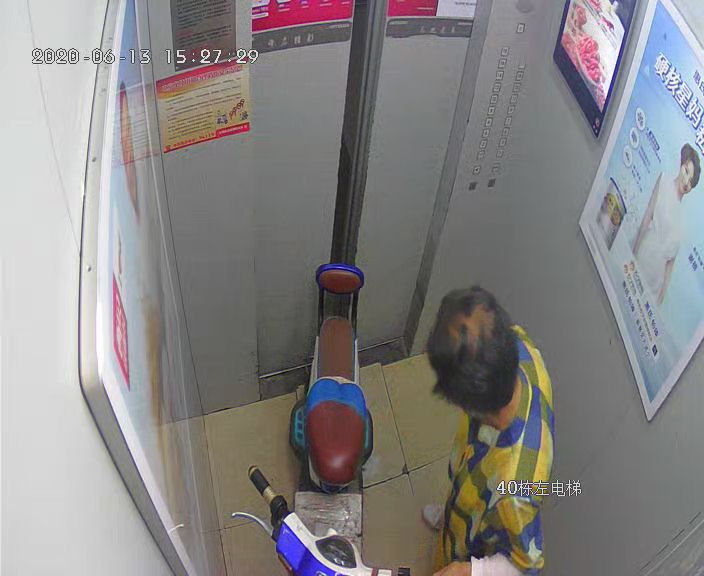Electric-bicycle: (250, 268, 377, 573)
